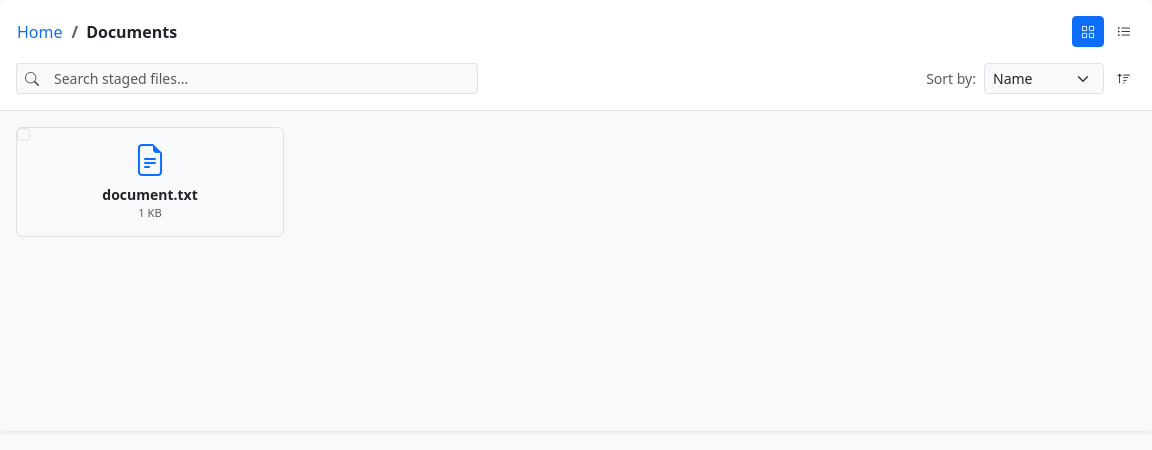
Workspace & File Browser Tests › FileBrowser & View Controls › should switch between List and Grid modes
The image size is (1152, 450).
Expected: the checkbox with test id "file-grid-item-document.txt" is shown, [16,127,284,237]
// Switch to List View
Click the button named "List View": (1124, 32) [1112,16,1136,47]
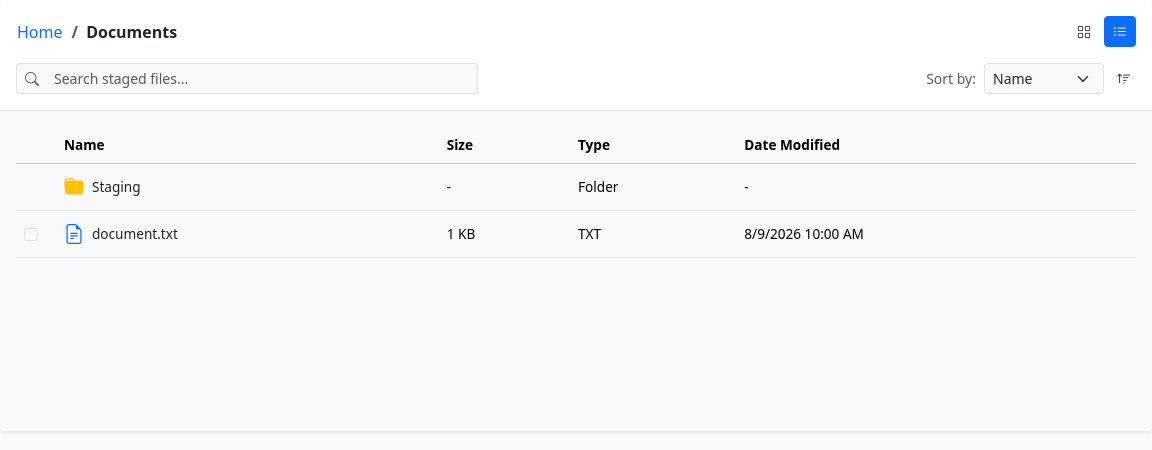
Now the row with test id "file-list-row-document.txt" is shown, box [16,211,1136,258]
